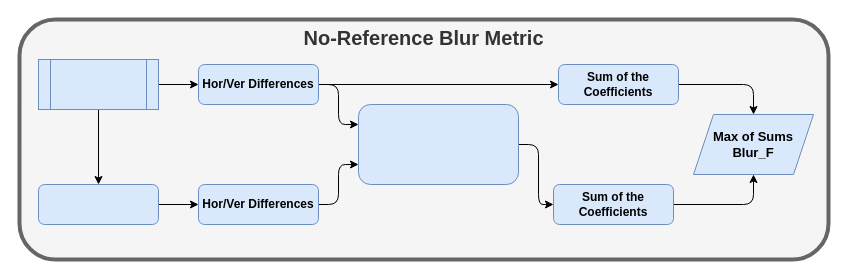
The diagram is 847 pixels wide and 278 high, and some of its shapes have lost their labels. The shapes that lost their labels are listed below. From the top down, each one's box as (x1, y1, x2, y2) in pixels, then its label:
(38, 58, 158, 110): Input Image
(358, 104, 518, 184): Absolute Horizontal & Vertical Difference
(38, 184, 158, 224): Low Pass Filtering - Blurring
